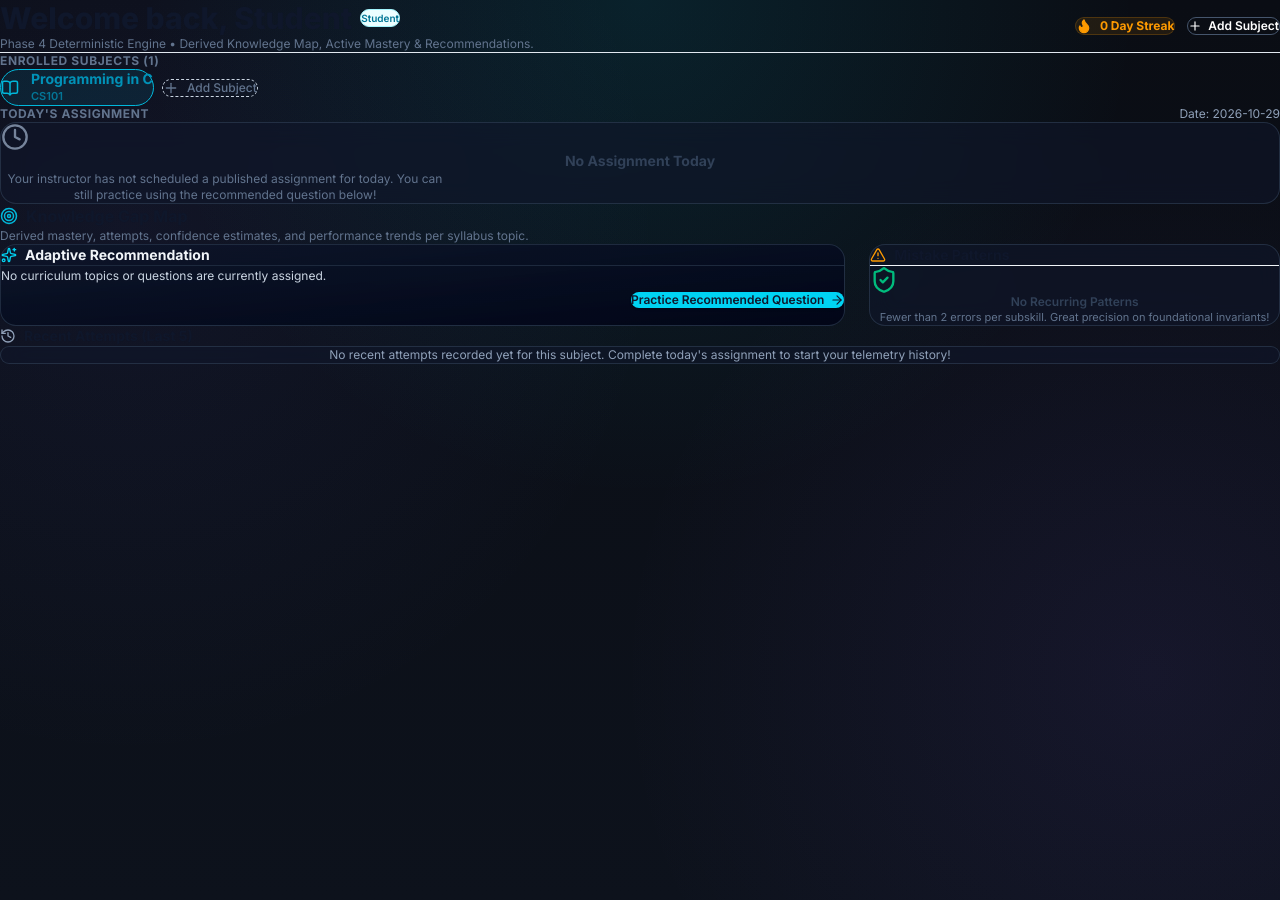
Test: StudentDashboard Integration & Telemetry › opens Add Subject modal and accepts code input
Expected: the text "Programming in C" is shown, 31,70 -> 153,88
Note: Click "Add Subject" button
Step 1. Click the button "Add Subject" next to "Day Streak" → (1234, 26), box 1187,17 -> 1279,35
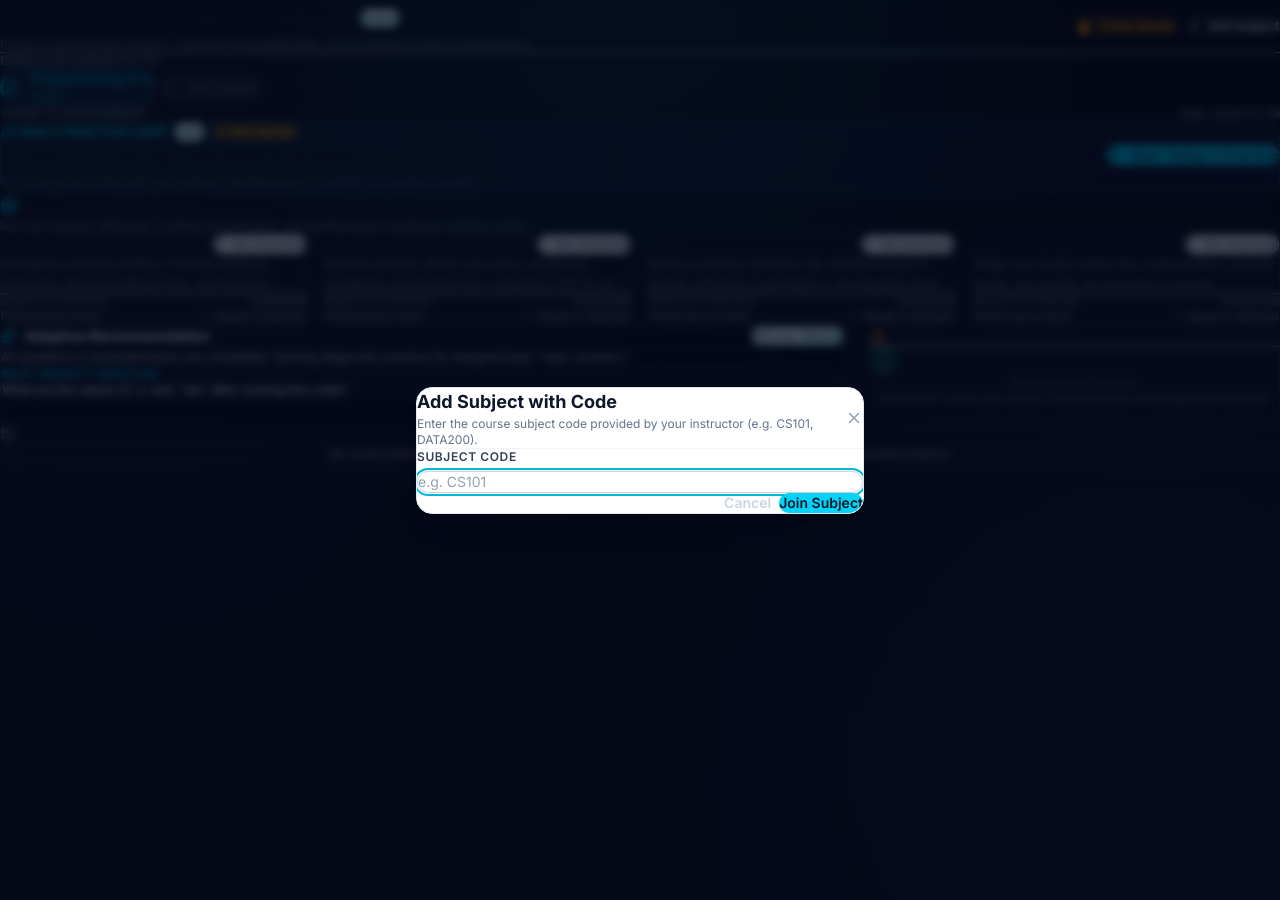
Now the field labelled "Subject Code" is shown, box 417,470 -> 863,492
Now the button "Join Subject" is shown, box 779,492 -> 863,512
